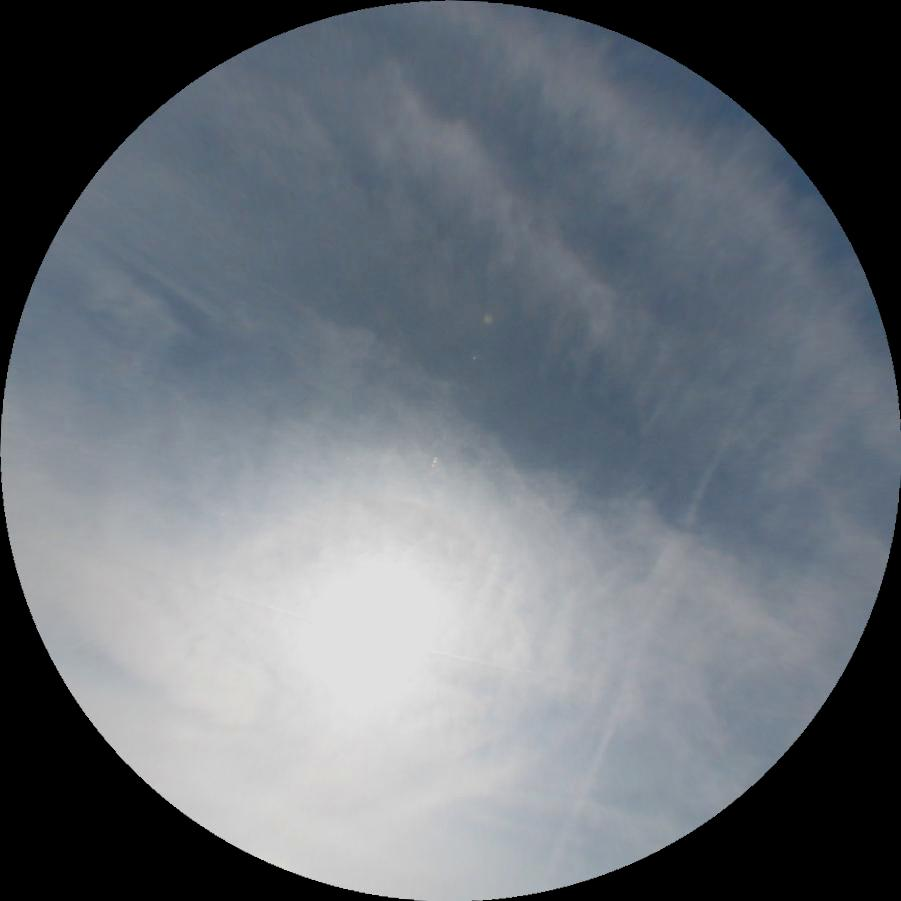contrail veryold: (536, 364, 761, 883)
contrail young: (179, 575, 810, 735)
sun: (298, 557, 432, 679)
